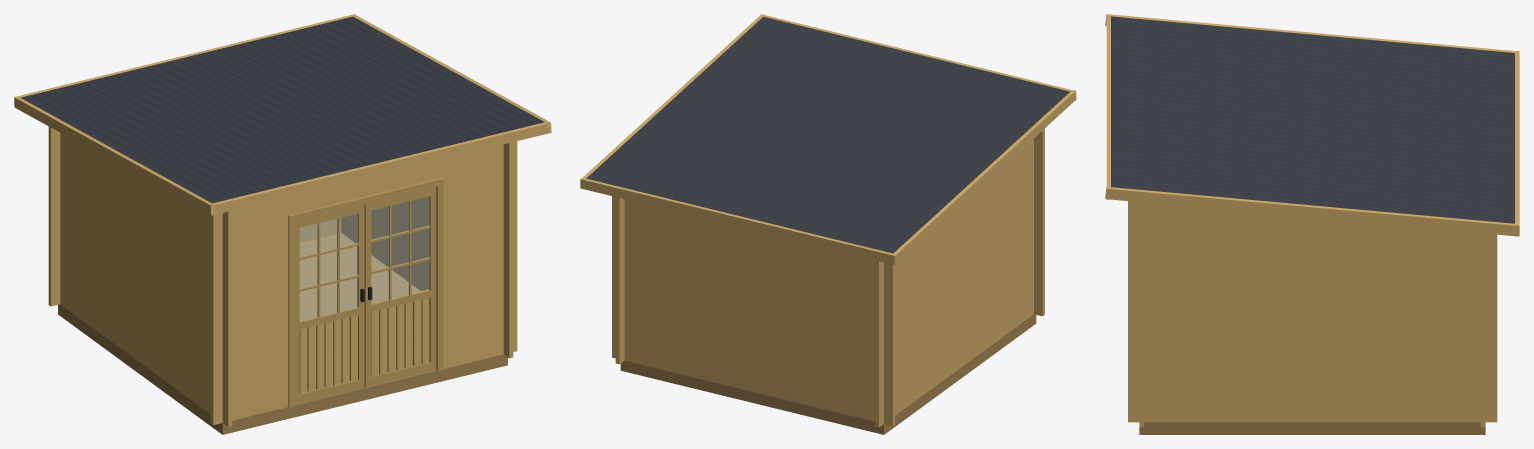
The model's file is пегас_пк_3_3.glb.
The picture shows the model from 3 angles, left to right: view 1: azimuth 30°, elevation 25°; view 2: azimuth 150°, elevation 25°; view 3: azimuth 270°, elevation 25°; orthographic projection. The views are drawn at different scales.
Visible parts, largest first — view 1: walls, roof, house, floor, object 14, object 31, object 38, object 39, object 20, object 19, object 3, object 40 (+21 smaller); view 2: walls, roof, house; view 3: roof, walls, house.
Part boxes in pixels (left/top/right/bottom): walls: left=48, top=126, right=517, bottom=426; roof: left=14, top=14, right=551, bottom=215; house: left=58, top=304, right=507, bottom=434; floor: left=299, top=233, right=421, bottom=390; object 14: left=300, top=214, right=357, bottom=321; object 31: left=371, top=196, right=429, bottom=303; object 38: left=288, top=214, right=295, bottom=407; object 39: left=436, top=178, right=443, bottom=371; object 20: left=428, top=186, right=436, bottom=370; object 19: left=364, top=202, right=371, bottom=387; object 3: left=357, top=204, right=364, bottom=388; object 40: left=288, top=178, right=443, bottom=220; walls: left=612, top=128, right=1044, bottom=427; roof: left=580, top=14, right=1076, bottom=264; house: left=620, top=314, right=1036, bottom=434; roof: left=1105, top=14, right=1519, bottom=236; walls: left=1128, top=201, right=1497, bottom=427; house: left=1139, top=422, right=1485, bottom=434.
Size of the model in its own units: 3.58 by 2.49 by 3.59.
